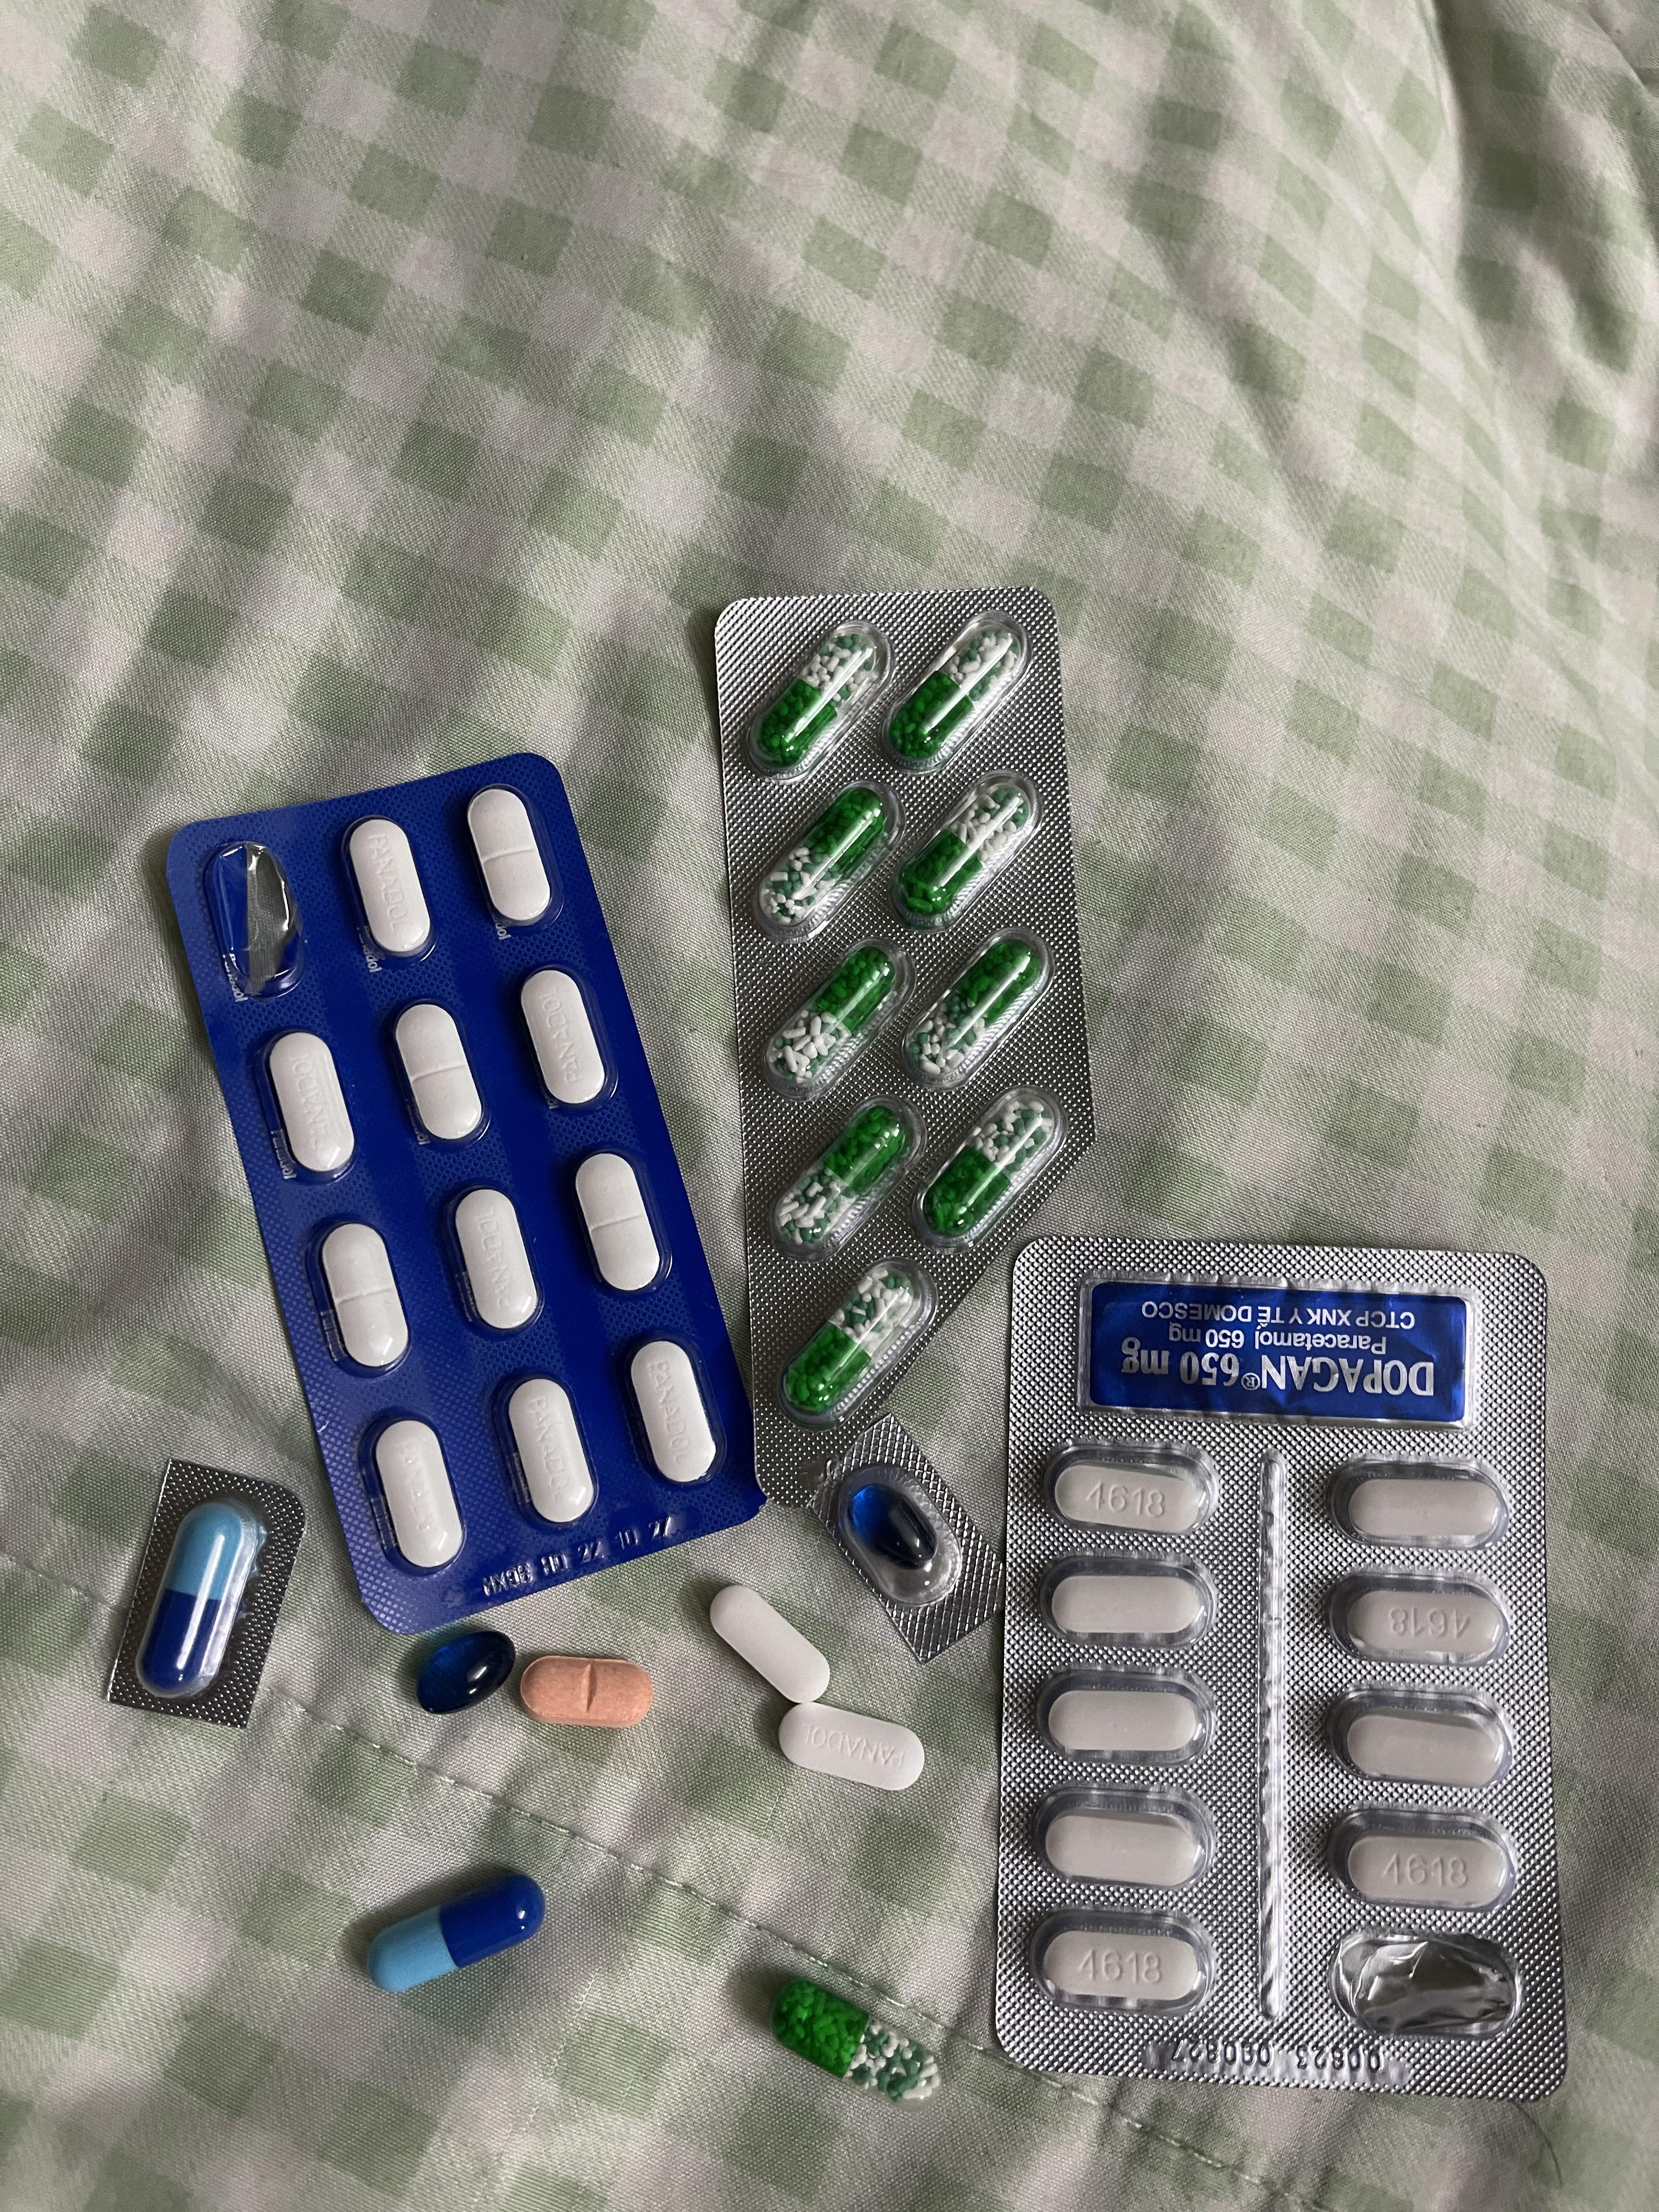Lincomyxin_500mg: (415, 1629, 521, 1714), (854, 1484, 939, 1569)
Loratadine_10mg: (521, 1653, 659, 1728)
Paracetamol_350mg: (441, 1186, 542, 1332), (317, 1221, 411, 1374), (500, 1376, 596, 1526), (392, 1001, 488, 1148), (265, 1031, 357, 1179), (371, 1421, 464, 1569), (516, 970, 612, 1111), (627, 1339, 721, 1482), (572, 1153, 664, 1294), (467, 787, 554, 928), (784, 1703, 922, 1792), (347, 819, 434, 958)
Paracetamol_500mg: (1328, 1808, 1520, 1909), (1333, 1689, 1520, 1785), (1035, 1787, 1208, 1886), (1039, 1552, 1208, 1646), (1331, 1575, 1513, 1662), (1049, 1442, 1220, 1534), (1035, 1669, 1206, 1757), (709, 1581, 824, 1710), (1042, 1928, 1195, 2005), (1340, 1477, 1500, 1541)
Paracetamol_650mg: (910, 1082, 1063, 1247), (762, 942, 915, 1106), (897, 927, 1047, 1092), (756, 780, 908, 942), (887, 772, 1039, 930), (784, 1258, 939, 1411), (774, 1101, 910, 1247), (772, 1973, 929, 2094), (755, 627, 882, 768), (889, 624, 1016, 761)
pill: (139, 1496, 270, 1693), (364, 1869, 552, 1994)
